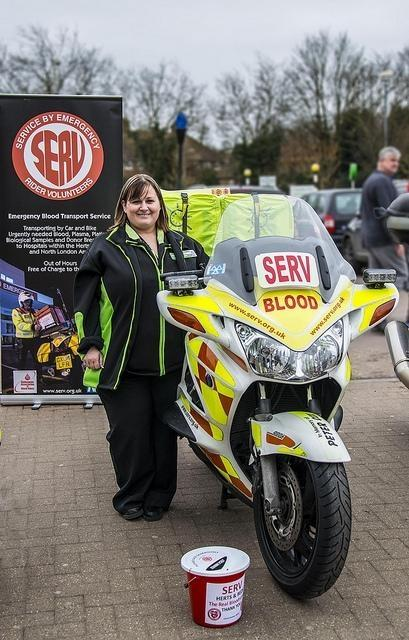car: (301, 187, 362, 256)
motorcycle: (156, 195, 402, 602), (375, 194, 409, 391)
